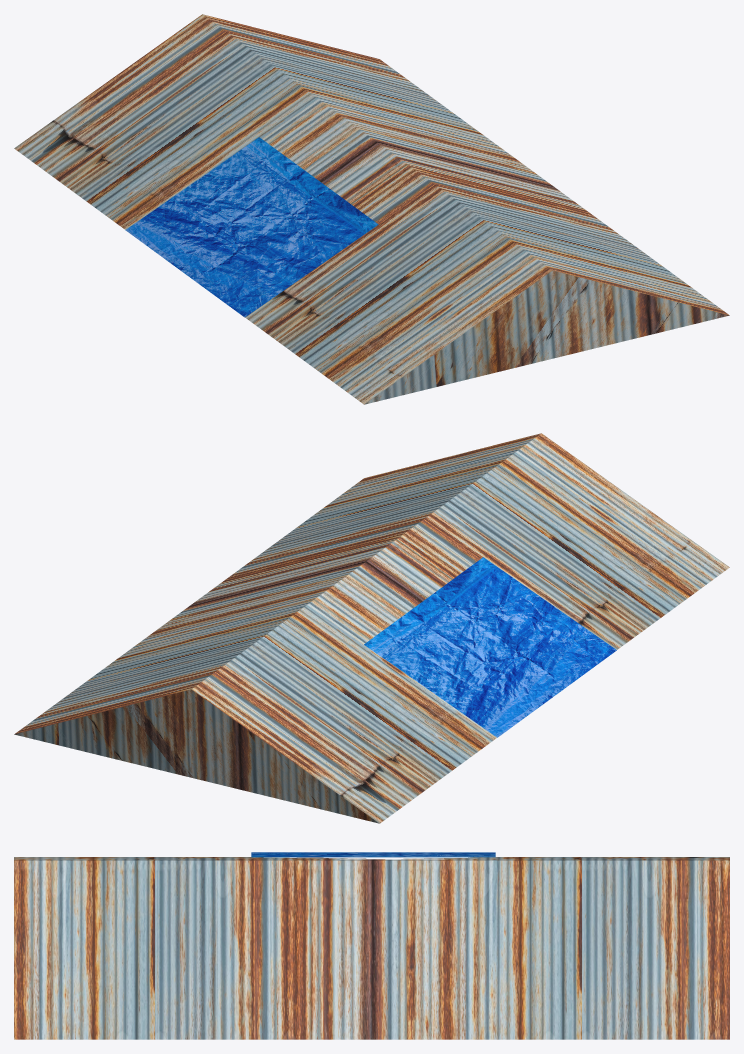
The model's file is RoofFixed.glb.
The picture shows the model from 3 angles, top to bottom: view 1: azimuth 30°, elevation 25°; view 2: azimuth 150°, elevation 25°; view 3: azimuth 270°, elevation 25°; orthographic projection. The views are drawn at different scales.
Parts seen in each view (by area): view 1: RoofFixed, Plane; view 2: RoofFixed, Plane; view 3: RoofFixed, Plane.
Part boxes in pixels (x1=…): RoofFixed: x1=14, y1=14, x2=729, y2=404; Plane: x1=125, y1=137, x2=378, y2=317; RoofFixed: x1=14, y1=433, x2=729, y2=823; Plane: x1=364, y1=557, x2=616, y2=737; RoofFixed: x1=14, y1=857, x2=729, y2=1039; Plane: x1=251, y1=852, x2=495, y2=857.
Bounding box in the file's own units: 6.33 × 1.45 × 10.41.
Materials: 2 (2 with a texture image).
